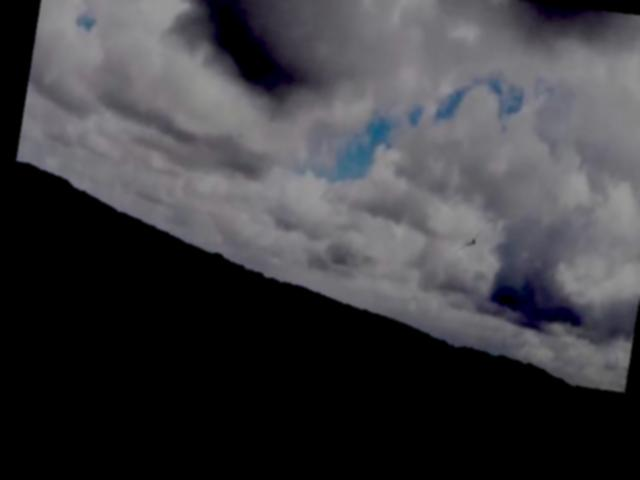iha: (454, 235, 479, 262)
